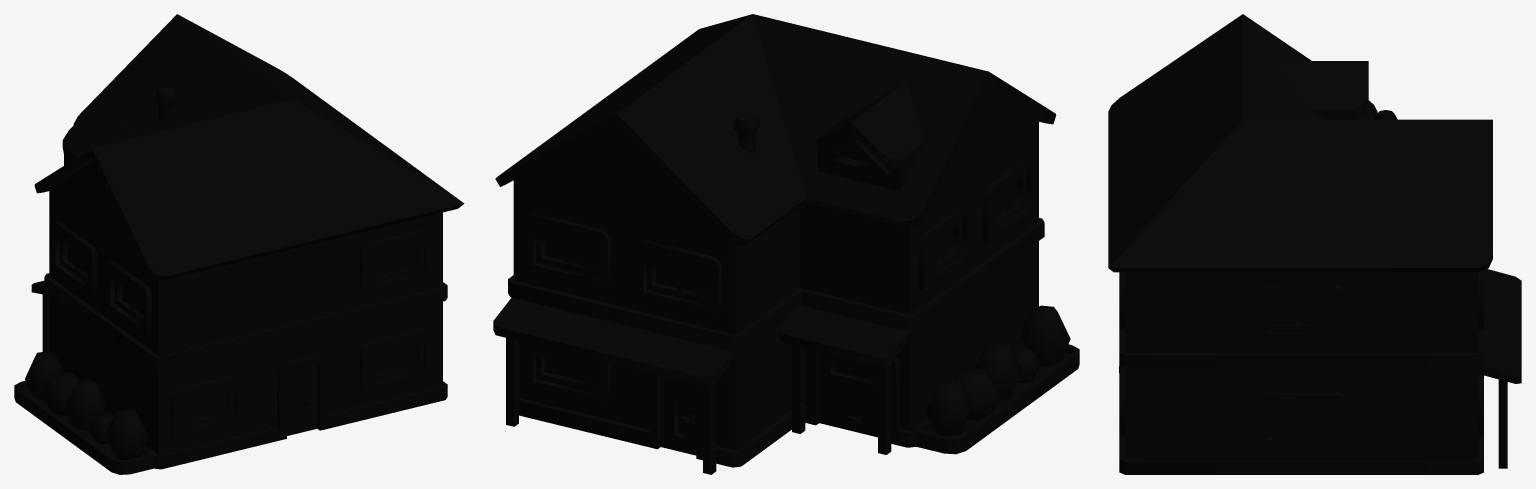
File: building-type-f.glb
3 renders of one model, left to right at view 1: azimuth 30°, elevation 25°; view 2: azimuth 150°, elevation 25°; view 3: azimuth 270°, elevation 25°, orthographic. The views are drawn at different scales.
Parts seen in each view (by area): view 1: building-type-f; view 2: building-type-f; view 3: building-type-f.
Part boxes in pixels (x1,y1,x2,y2): building-type-f: (14,14,464,474); building-type-f: (493,14,1079,474); building-type-f: (1108,14,1521,474).
Bounding box in the file's own units: 1.43 × 1.14 × 1.41.
Materials: 1 (1 with a texture image).
